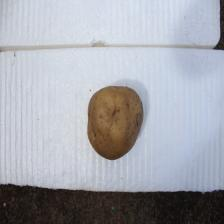Damaged potato: (84, 84, 144, 163)
